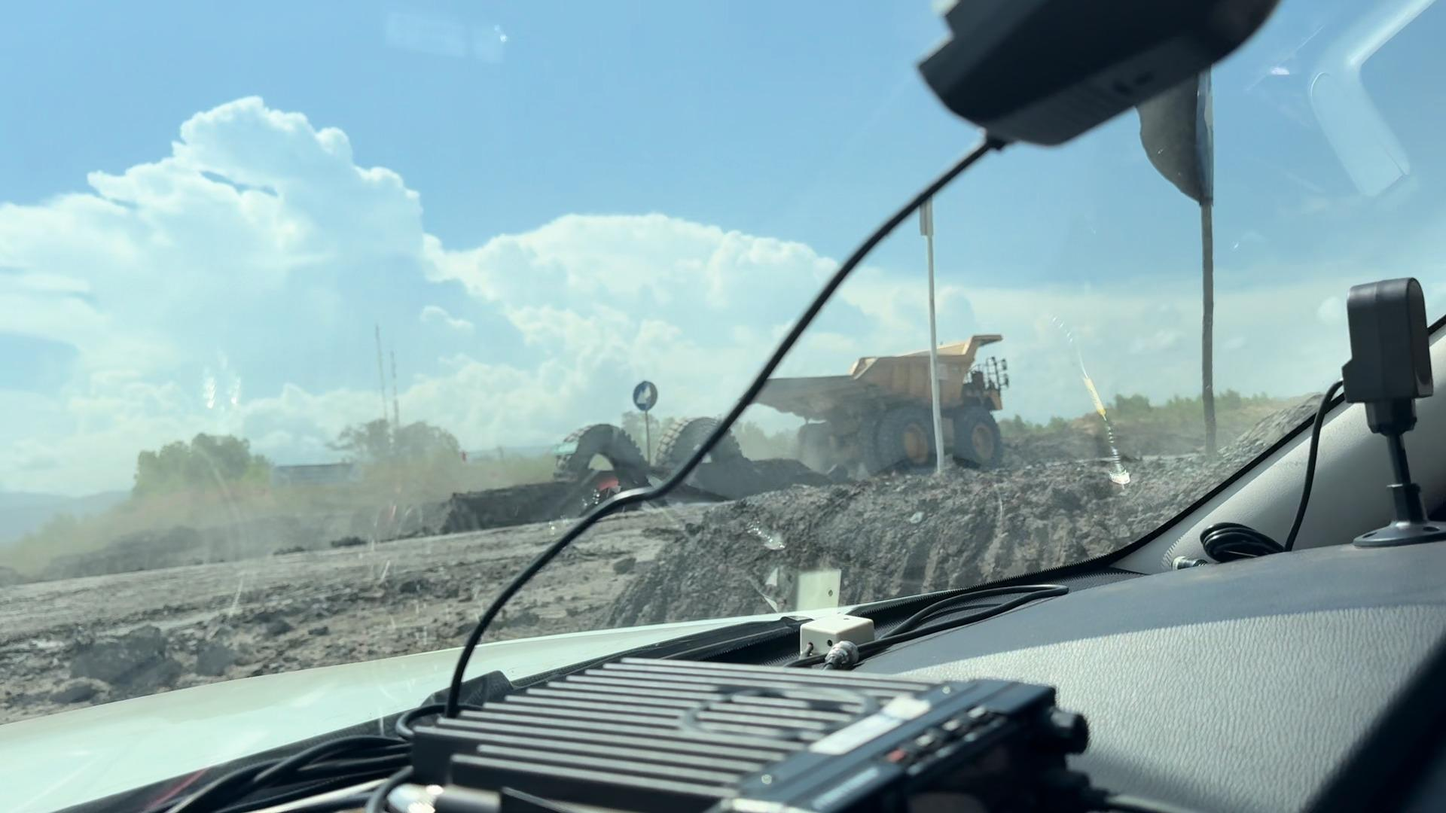HD-Truck: (756, 334, 1009, 474)
